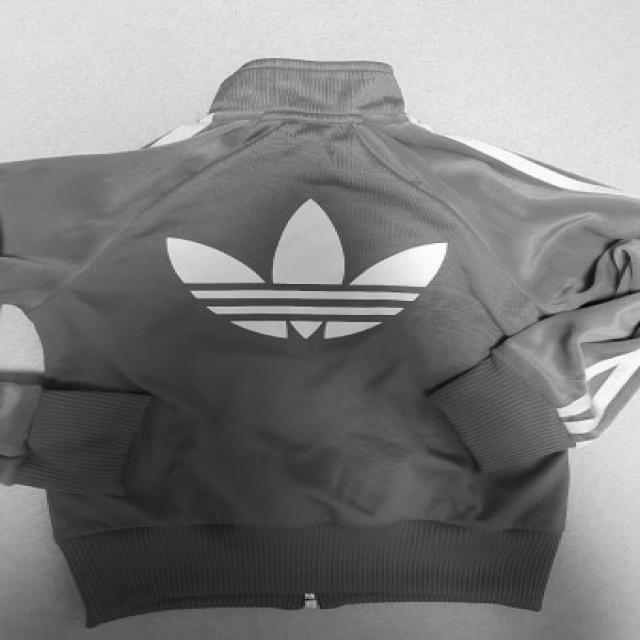Adidas: (153, 189, 458, 346)
